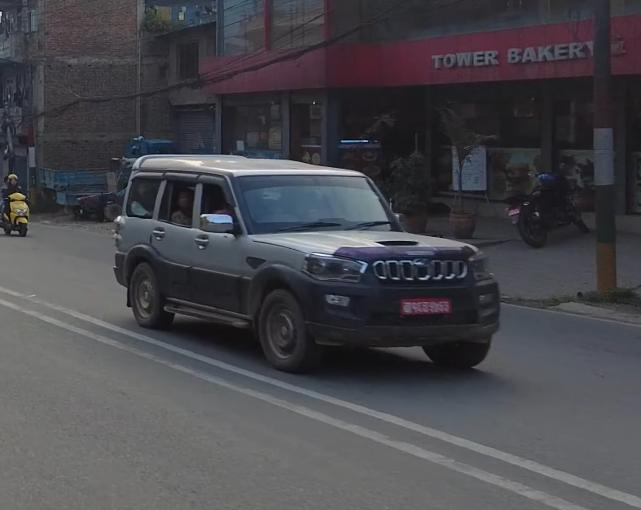SUV: (111, 140, 498, 382)
bike: (505, 160, 590, 253)
scooter: (0, 187, 33, 238)
